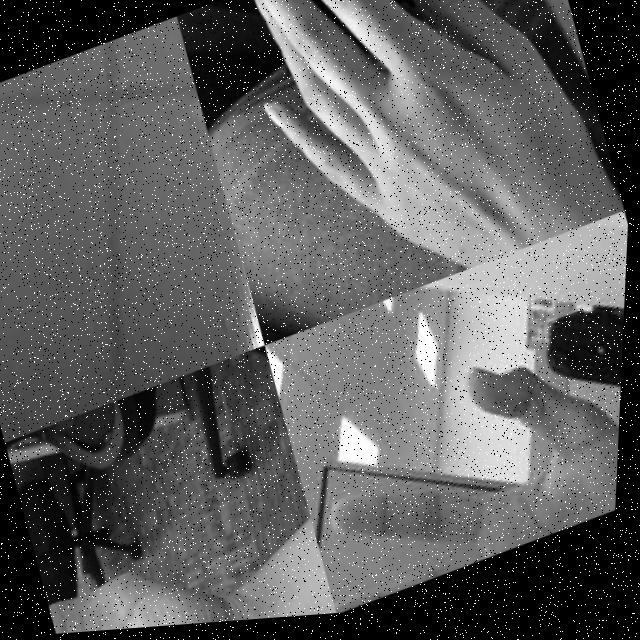hand: (219, 0, 628, 336), (286, 315, 628, 622), (29, 458, 284, 637)
